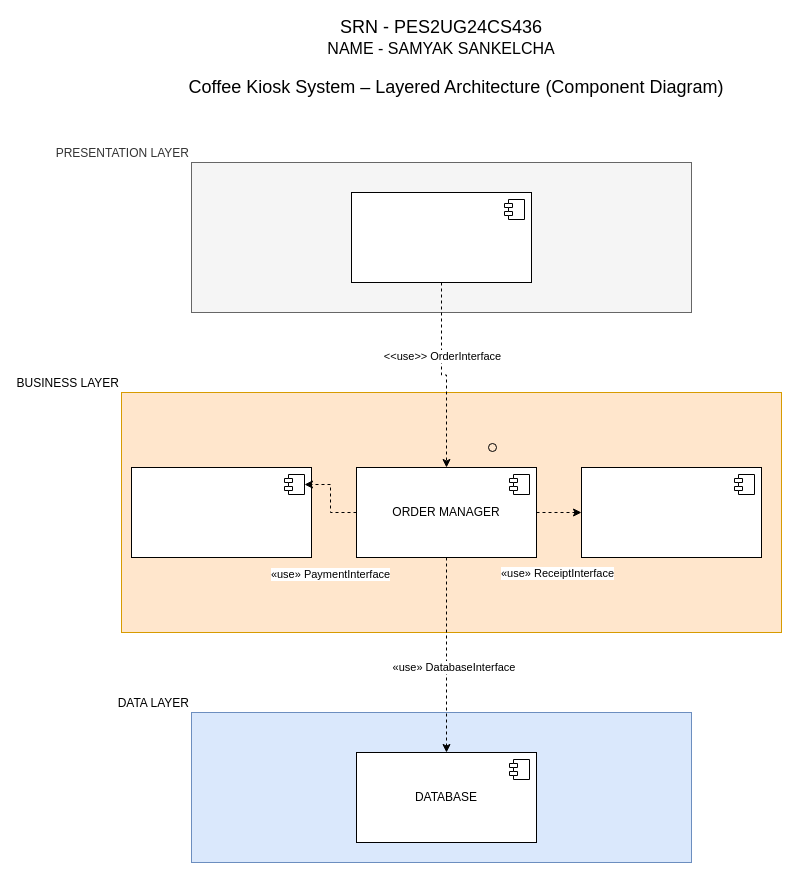
Image size: 799x880. Some labels were removed from this diagram. The shapes that lost their labels are listed below. From the top down, each one's centre as x and y in pixels, then its label:
At pixel 441 237: "USER INTERFACE".
At pixel 221 512: "PAYMENT SERVICE".
At pixel 671 512: "RECEIPT PRINTER".
